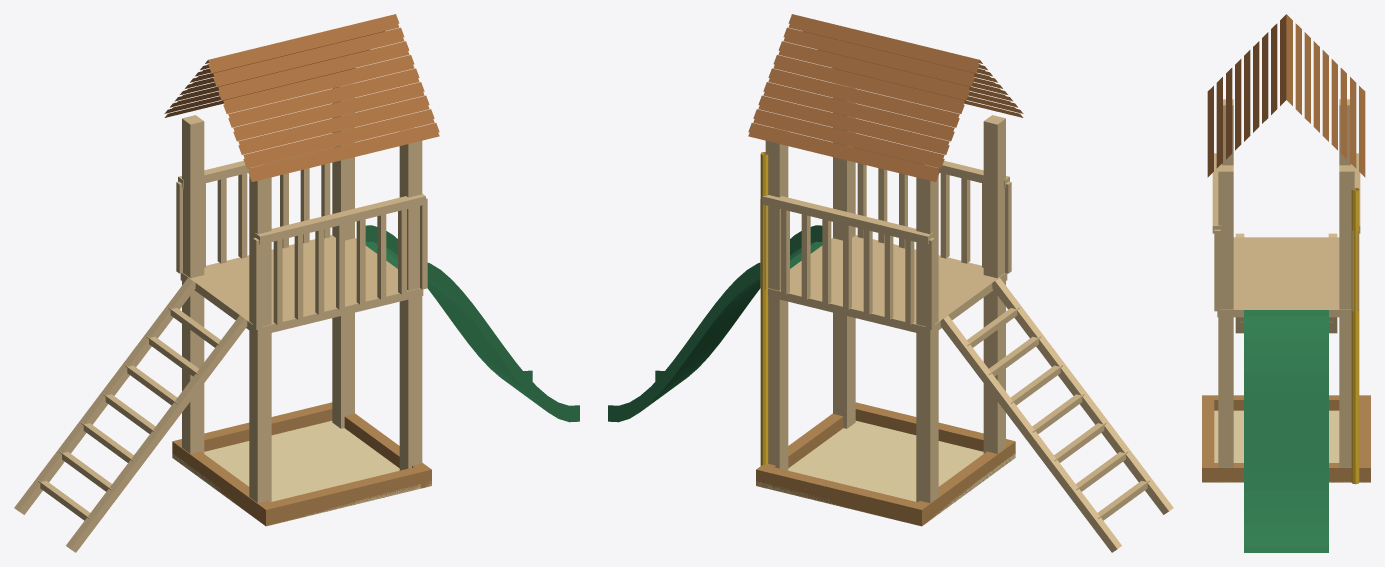
3 views of the same model, side by side, from view 1: azimuth 30°, elevation 25°; view 2: azimuth 150°, elevation 25°; view 3: azimuth 270°, elevation 25° (orthographic). The views are drawn at different scales.
Visible parts, largest first — view 1: SW-T203; view 2: SW-T203; view 3: SW-T203.
Part boxes in pixels (bbox=[...]): SW-T203: bbox=[14, 14, 579, 552]; SW-T203: bbox=[608, 14, 1173, 552]; SW-T203: bbox=[1202, 14, 1370, 552].
Size of the model in its own units: 3.92 by 3.17 by 1.24.
